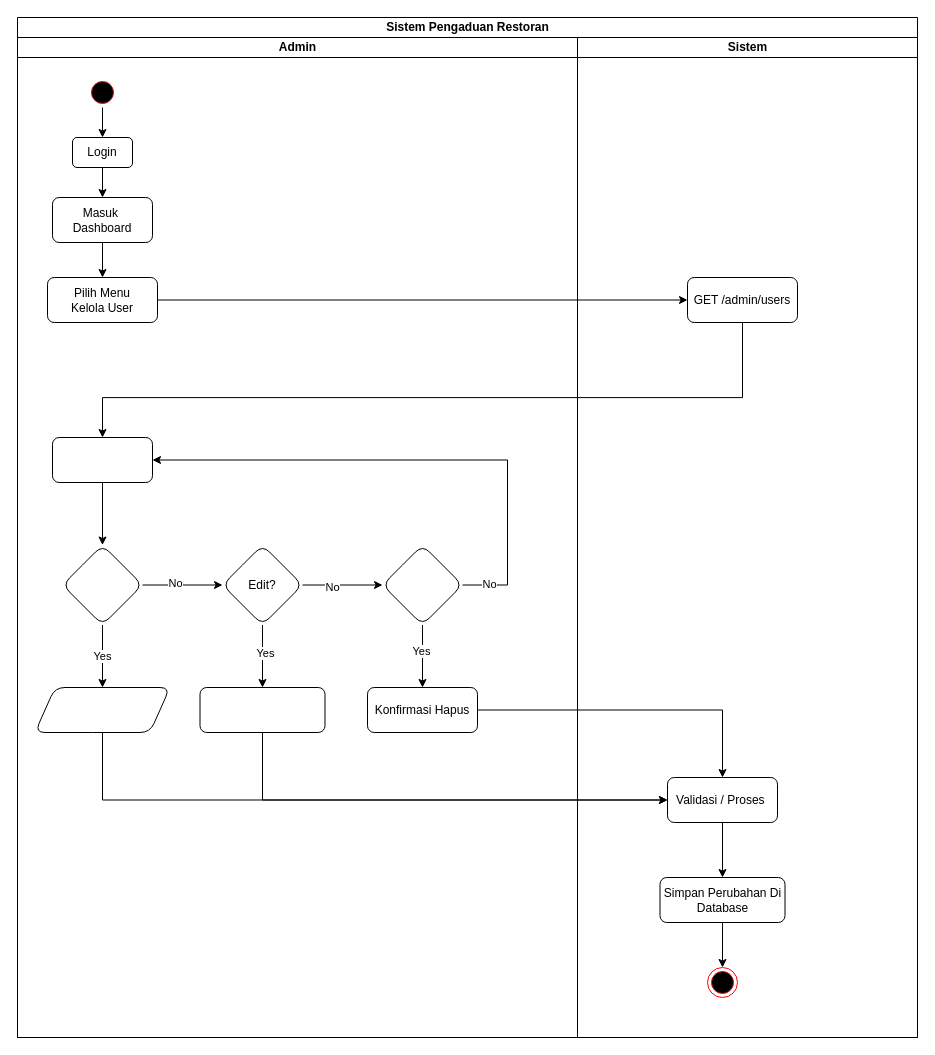
The diagram is 935 pixels wide and 1055 high, and some of its shapes have lost their labels. The centre of each missing label's shape, as x and y in pixels:
Buat?: the point at 102,584
Hapus?: the point at 422,584
Input Nama, Email, Password, Role: the point at 102,709
Tampilkan Tabel User: the point at 102,459
Ubah Data Nama, Email, Password, Role: the point at 262,709
